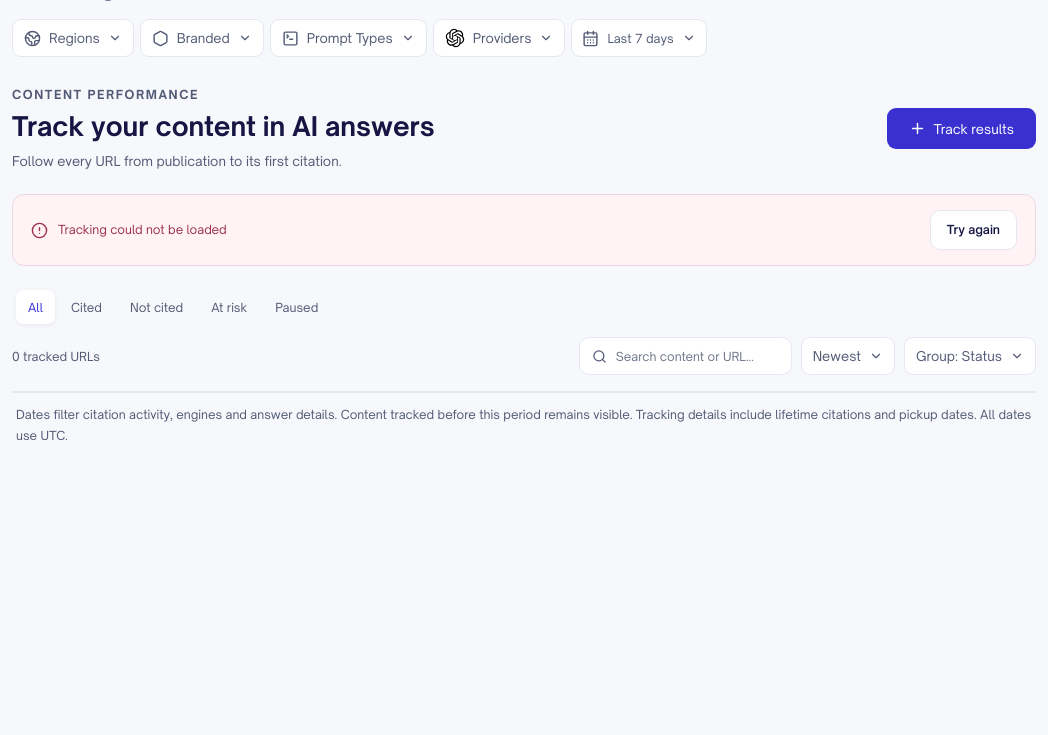
Test: Tracking report › can retry failed content and summary requests
The image size is (1048, 735).
Check: the message "Tracking could not be loaded Try again" is shown, box [12,194,1036,266]
What coordinates should you click on to do the following:
click the button "Try again"
I would click on:
 (973, 230)
Its box is [930,210,1017,250].
(page scrolled)
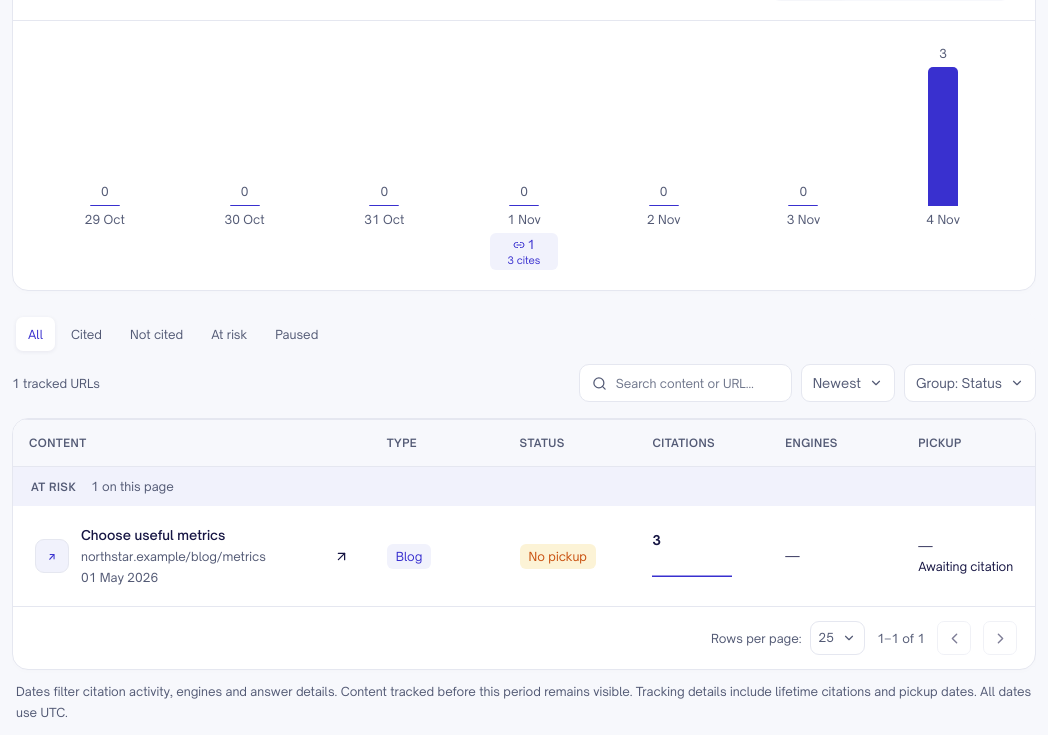
Check: the table shows "Choose useful metrics", box [29,526,355,586]
Check: the message "Tracking could not be loaded Try again" is gone
